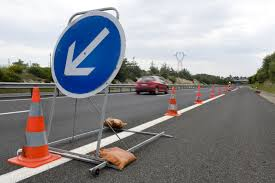car: (135, 74, 171, 94)
obstacle: (52, 11, 157, 179), (16, 84, 54, 168), (166, 85, 180, 122), (194, 81, 203, 107), (209, 85, 216, 100), (217, 85, 222, 96)
